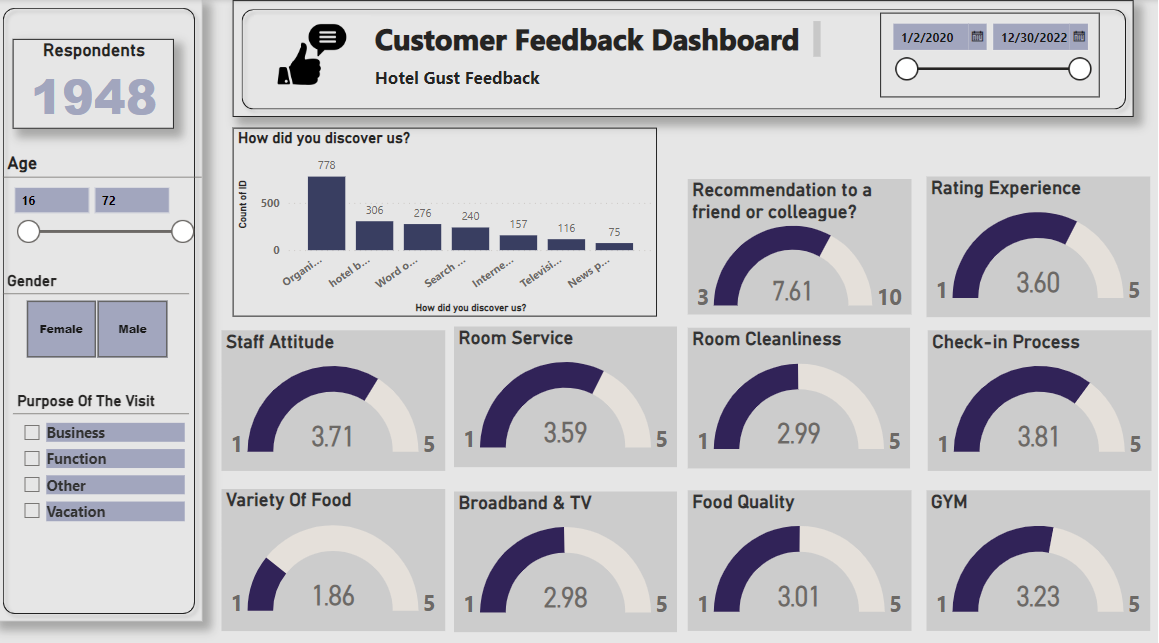

This screenshot's page, from the dashboard's own definition file:
{"tool":"powerbi","page":{"name":"Page 1","canvas":[1280,720],"ordinal":0},"visuals":[{"type":"card","title":"Respondents","fields":{"Values":["Measure.Total Customers"]},"box":[21,57.5,168.3,84.1],"z":0},{"type":"shape","box":[0,4.6,228.6,667.2],"z":1000},{"type":"shape","box":[262.2,0,990,122],"z":2000},{"type":"textbox","box":[413.7,18.2,402.5,50.5],"z":3000},{"type":"textbox","box":[413.7,68.7,182.3,35.1],"z":4000},{"type":"image","box":[286.1,18.2,117.8,85.5],"z":5000},{"type":"slicer","fields":{"Values":["Feedback.Checkout Date"]},"box":[869.4,18.2,258,92.6],"z":6000},{"type":"slicer","title":"Age","fields":{"Values":["Feedback.Age"]},"box":[9.8,168.3,218.8,108],"z":7000},{"type":"slicer","title":"Gender","fields":{"Values":["Feedback.Gender"]},"box":[9.8,298.7,204.7,101],"z":8000},{"type":"slicer","title":"Purpose Of The Visit","fields":{"Values":["Feedback.Purpose of the visit"]},"box":[21,430.5,193.5,172.5],"z":9000},{"type":"clusteredColumnChart","title":" How did you discover us?","fields":{"Y":["CountNonNull(Feedback.ID)"],"Category":["Feedback.How did you discover us?"]},"box":[262.2,127.6,465.6,221.6],"z":10000},{"type":"gauge","title":"GYM","fields":{"Y":["Avg(Feedback.Gym)"],"MinValue":["Min(Feedback.Gym)"],"MaxValue":["Max(Feedback.Gym)"]},"box":[1010,542.1,253.3,154.4],"z":11000},{"type":"gauge","title":"Food Quality","fields":{"Y":["Avg(Feedback.Food quality)"],"MinValue":["Min(Feedback.Food quality)"],"MaxValue":["Max(Feedback.Food quality)"]},"box":[742.9,542.1,245.6,154.4],"z":12000},{"type":"gauge","title":"Broadband & TV","fields":{"Y":["Avg(Feedback.Broadband & TV)"],"MinValue":["Min(Feedback.Broadband & TV)"],"MaxValue":["Max(Feedback.Broadband & TV)"]},"box":[505,540.5,223.9,156],"z":13000},{"type":"gauge","title":"Check-in Process","fields":{"Y":["Avg(Feedback.Check-in Process)"],"MinValue":["Min(Feedback.Check-in Process)"],"MaxValue":["Max(Feedback.Check-in Process)"]},"box":[1010,362.9,242.5,154.4],"z":14000},{"type":"gauge","title":"Room Cleanliness","fields":{"Y":["Avg(Feedback.Room cleanliness)"],"MinValue":["Min(Feedback.Room cleanliness)"],"MaxValue":["Max(Feedback.Room cleanliness)"]},"box":[756.8,362.9,236.3,154.4],"z":15000},{"type":"gauge","title":"Room Service","fields":{"Y":["Avg(Feedback.Room service)"],"MinValue":["Min(Feedback.Room service)"],"MaxValue":["Max(Feedback.Room service)"]},"box":[505,359.8,223.9,157.5],"z":16000},{"type":"gauge","title":"Staff Attitude","fields":{"Y":["Avg(Feedback.Staff attitude)"],"MinValue":["Min(Feedback.Staff attitude)"],"MaxValue":["Max(Feedback.Staff attitude)"]},"box":[262.5,362.9,223.9,154.4],"z":17000},{"type":"gauge","title":"Variety Of Food","fields":{"Y":["Avg(Feedback.Variety of food)"],"MinValue":["Min(Feedback.Variety of food)"],"MaxValue":["Max(Feedback.Variety of food)"]},"box":[262.5,540.5,223.9,154.4],"z":18000},{"type":"gauge","title":"Rating  Experience ","fields":{"Y":["Avg(Feedback.Rate your overall experience in our hotel)"],"MinValue":["Min(Feedback.Rate your overall experience in our hotel)"],"MaxValue":["Max(Feedback.Rate your overall experience in our hotel)"]},"box":[1010,194.6,242.5,154.4],"z":19000},{"type":"gauge","title":"Recommendation to a friend or colleague?","fields":{"Y":["Avg(Feedback.How likely are you to recommend us to a friend or colleague?)"],"MinValue":["Min(Feedback.How likely are you to recommend us to a friend or colleague?)"],"MaxValue":["Max(Feedback.How likely are you to recommend us to a friend or colleague?)"]},"box":[750.2,194.9,238.4,148.6],"z":20000}]}

Visuals, with their boxes in screenshot pixels (x1, y1, x2, y2), scaled from the page's 1280x720 canvas onto the 1159x643 screenshot:
"Respondents" card: detection(19, 51, 171, 126)
shape: detection(0, 4, 207, 600)
shape: detection(237, 0, 1134, 109)
textbox: detection(375, 16, 739, 61)
textbox: detection(375, 61, 540, 93)
image: detection(259, 16, 366, 93)
slicer - Feedback.Checkout Date: detection(787, 16, 1021, 99)
"Age" slicer: detection(9, 150, 207, 247)
"Gender" slicer: detection(9, 267, 194, 357)
"Purpose Of The Visit" slicer: detection(19, 384, 194, 539)
" How did you discover us?" clusteredColumnChart: detection(237, 114, 659, 312)
"GYM" gauge: detection(915, 484, 1144, 622)
"Food Quality" gauge: detection(673, 484, 895, 622)
"Broadband & TV" gauge: detection(457, 483, 660, 622)
"Check-in Process" gauge: detection(915, 324, 1134, 462)
"Room Cleanliness" gauge: detection(685, 324, 899, 462)
"Room Service" gauge: detection(457, 321, 660, 462)
"Staff Attitude" gauge: detection(238, 324, 440, 462)
"Variety Of Food" gauge: detection(238, 483, 440, 621)
"Rating  Experience " gauge: detection(915, 174, 1134, 312)
"Recommendation to a friend or colleague?" gauge: detection(679, 174, 895, 307)
